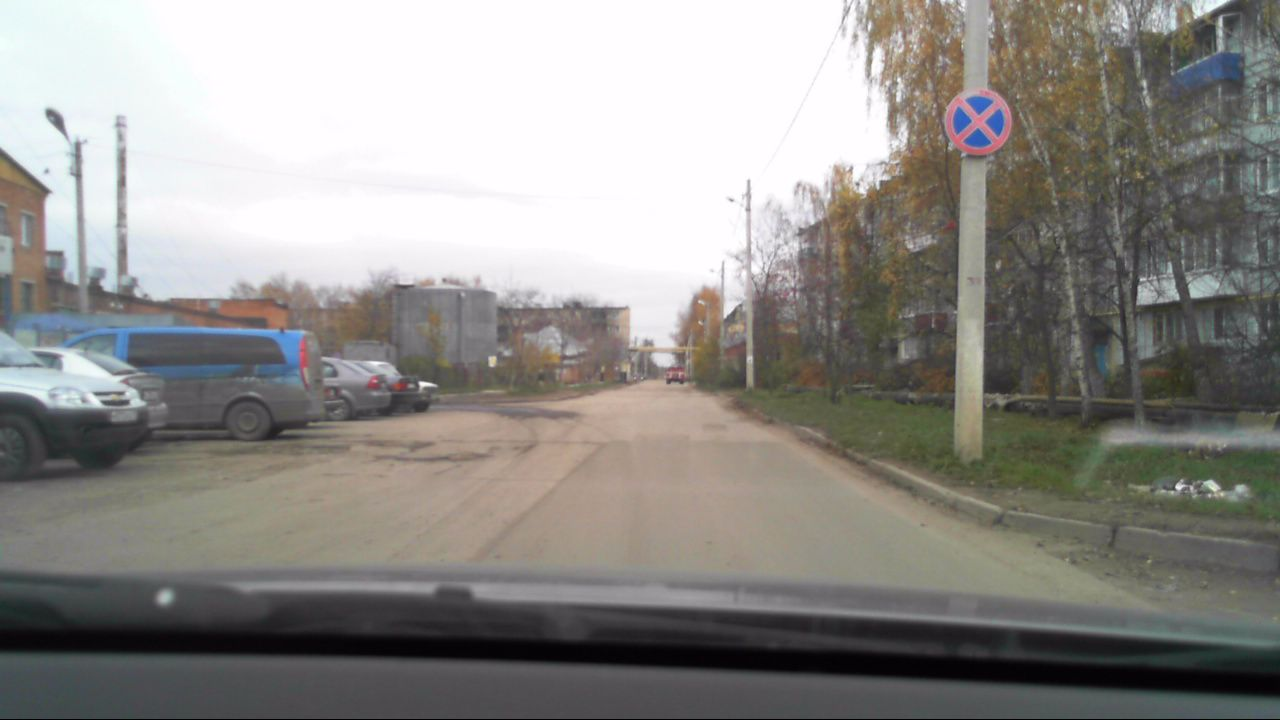No Parking: (943, 89, 1016, 159)
